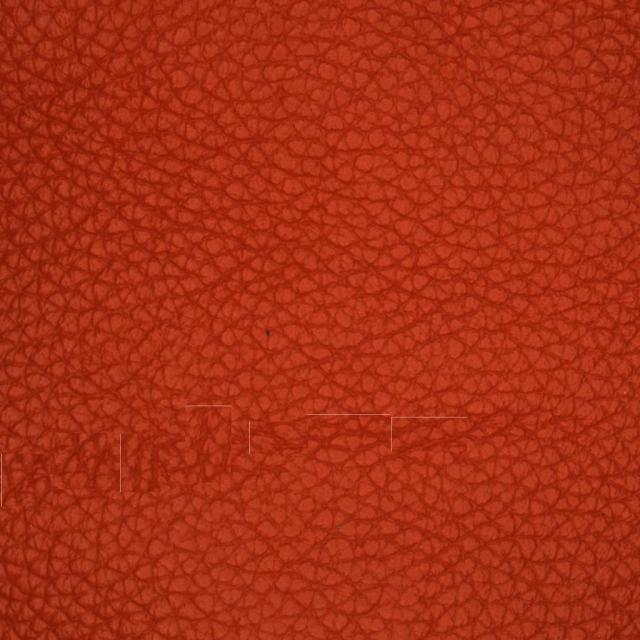Healed Injury: (44, 394, 250, 516), (368, 367, 564, 481)
pinhole: (219, 223, 325, 421)
